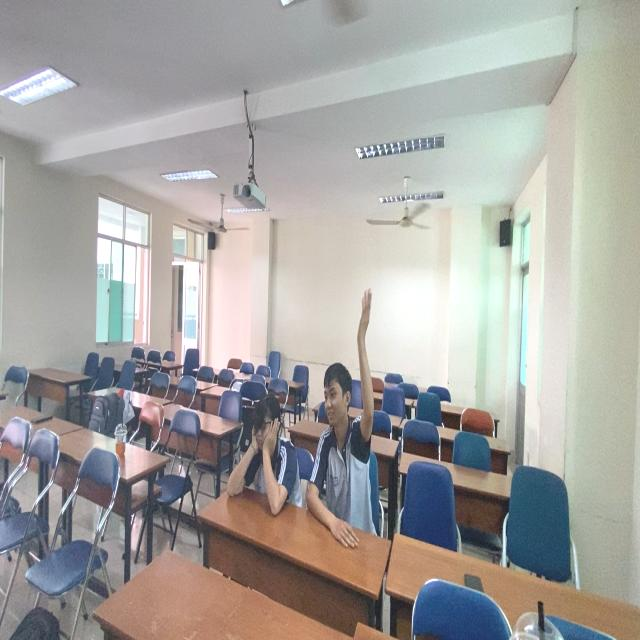raise_hand: (305, 287, 381, 546)
